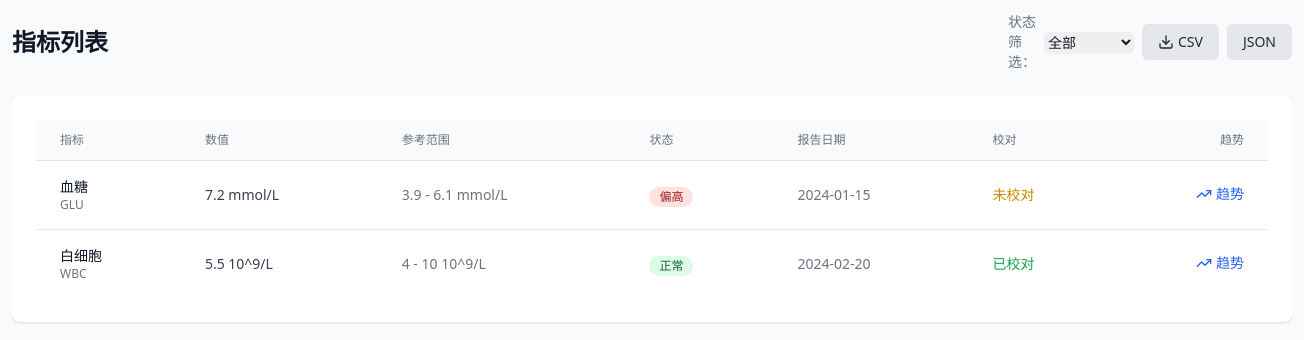
BiomarkerList › filters rows by status
Expected: the text "血糖" is shown, left=60, top=177, right=88, bottom=196
Select "偏高" in the dropdown. click: (1089, 42)
box: left=1044, top=32, right=1134, bottom=52
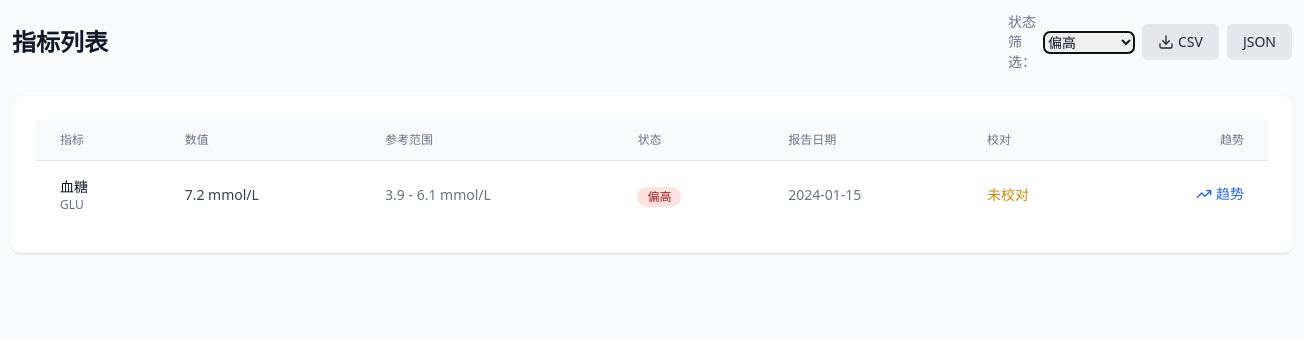
Expected: the text "血糖" is shown, left=60, top=177, right=88, bottom=196
Expected: the text "白细胞" is gone
